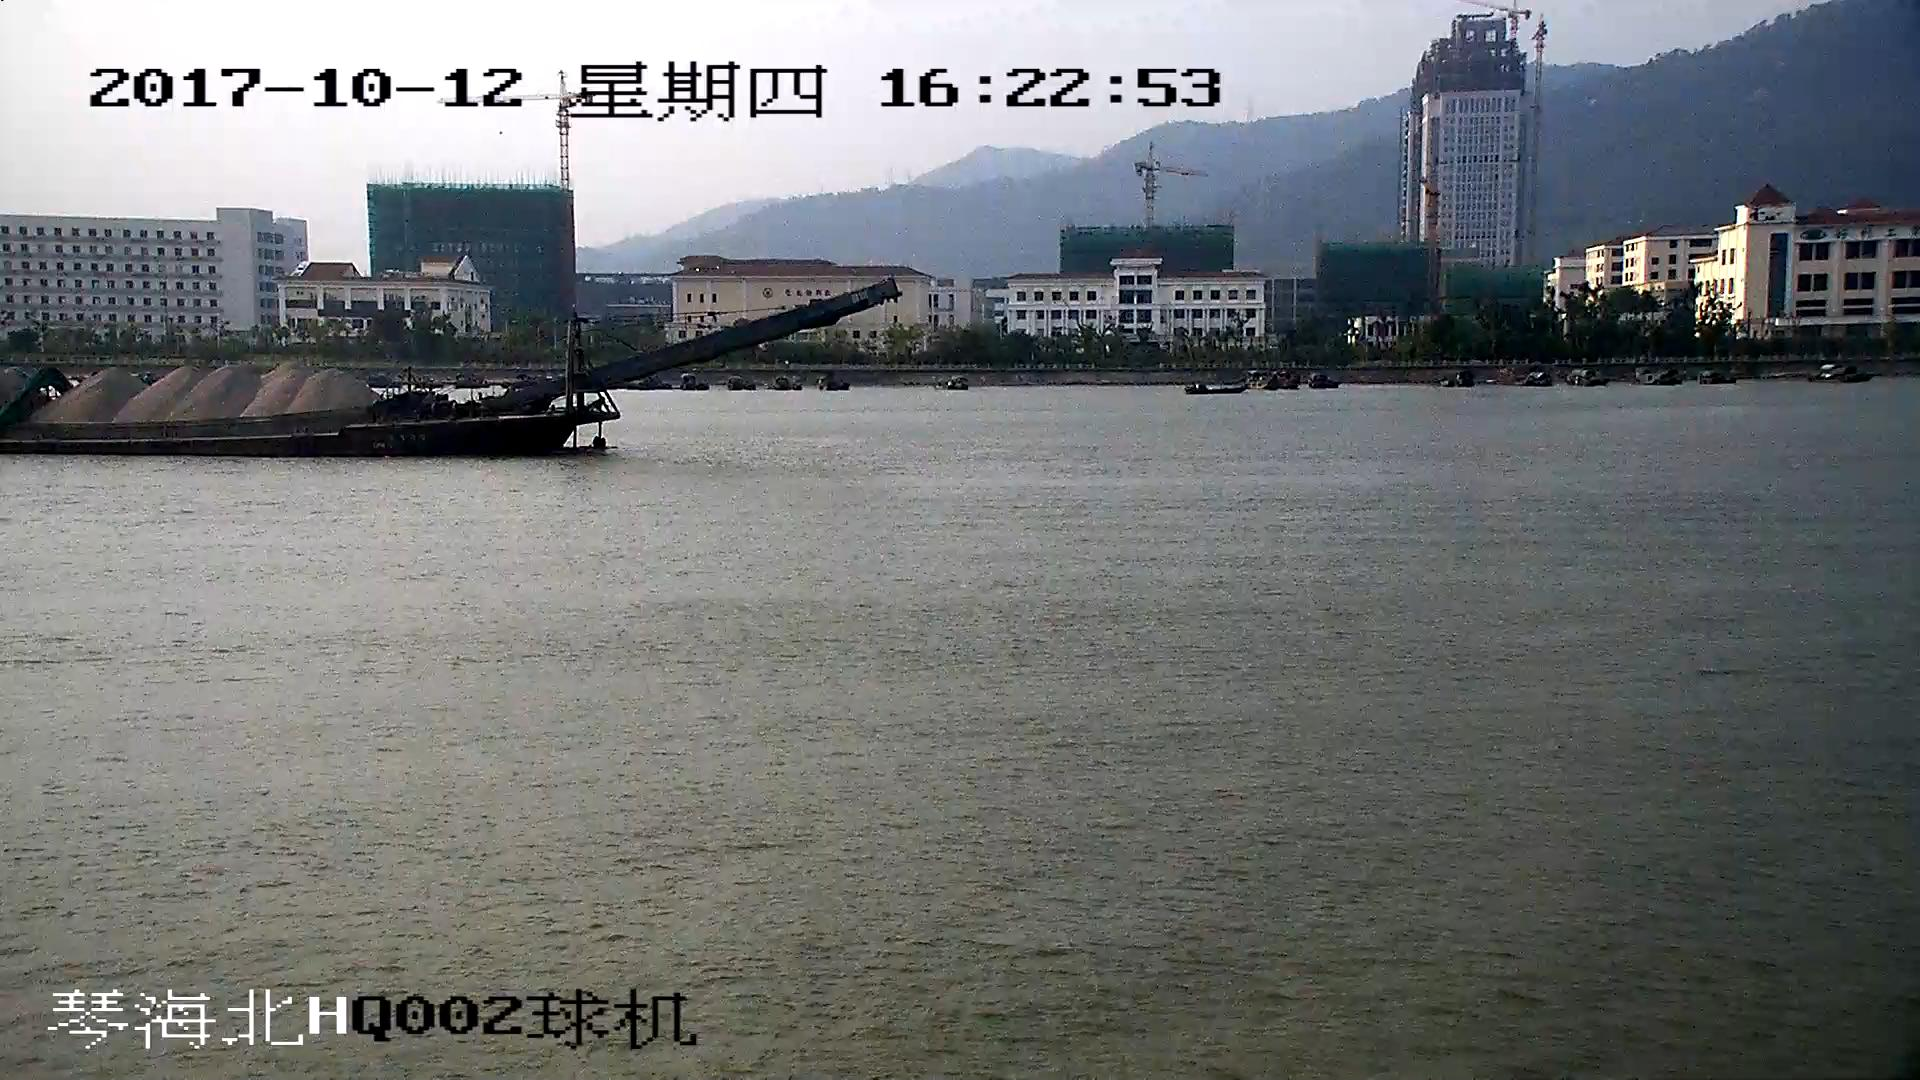ore carrier: (1, 281, 896, 456)
